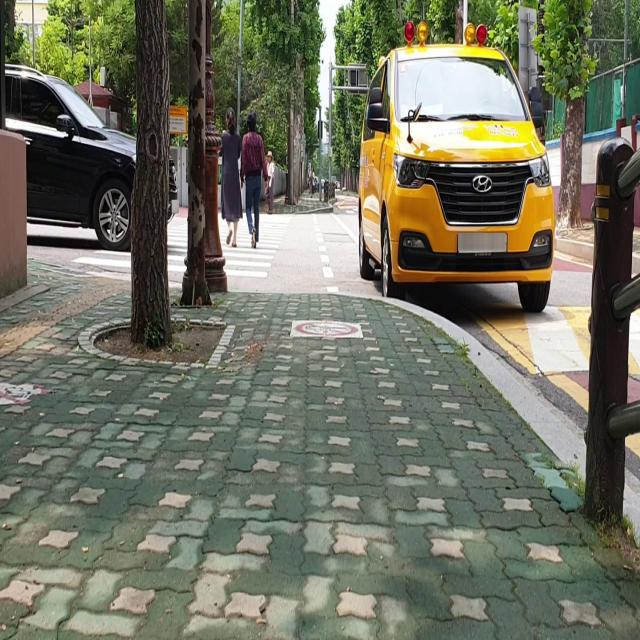횡단보도: (69, 210, 292, 280)
